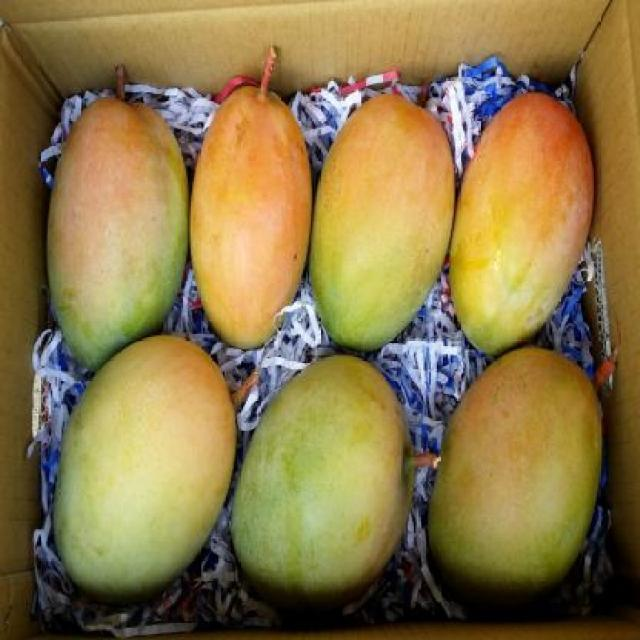Mango: (44, 329, 241, 599), (423, 345, 611, 609), (227, 350, 420, 607), (444, 94, 599, 361), (305, 91, 459, 353), (43, 98, 190, 370), (188, 86, 316, 349)
